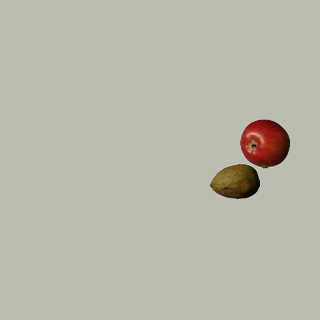Apple Braeburn: (239, 118, 289, 168)
Papaya: (209, 156, 259, 206)
